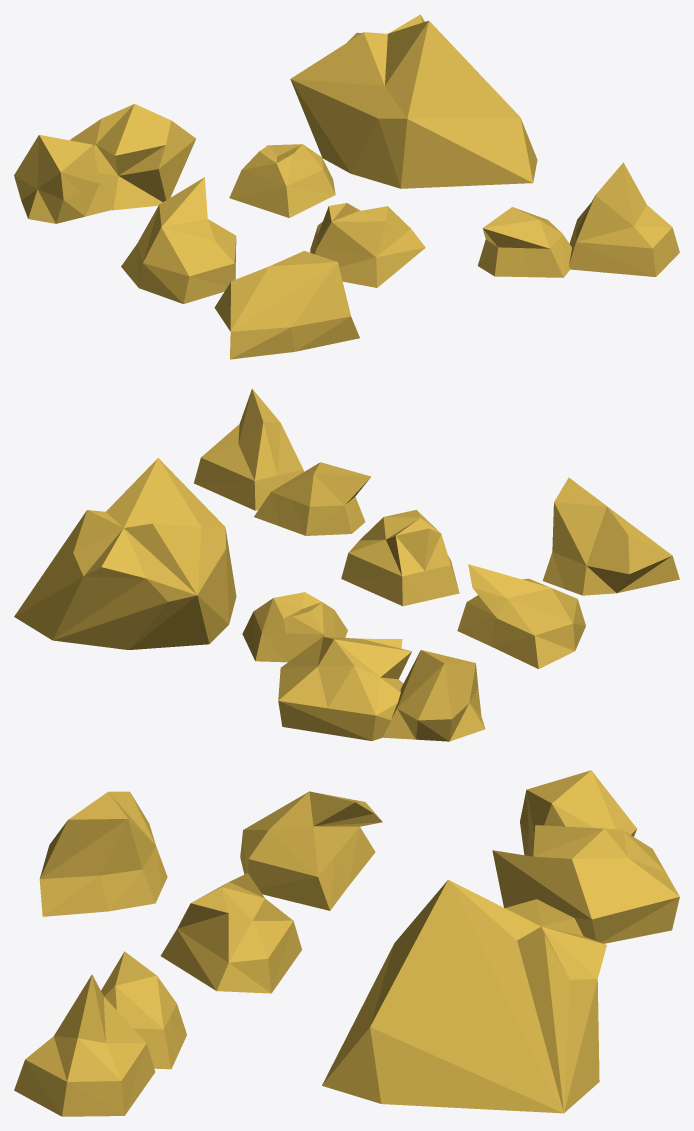
The model's file is ore_00.fbx.
3 views of the same model, one above another, from view 1: azimuth 30°, elevation 25°; view 2: azimuth 150°, elevation 25°; view 3: azimuth 270°, elevation 25° (orthographic). The views are drawn at different scales.
Visible parts, largest first — view 1: ore; view 2: ore; view 3: ore.
Boxes of the visible parts, box(x1,y1,x2,y2) form: ore: box(14, 14, 679, 359); ore: box(14, 388, 679, 741); ore: box(14, 770, 679, 1116).
Size of the model in its own units: 0.3624 by 0.1086 by 0.3678.
